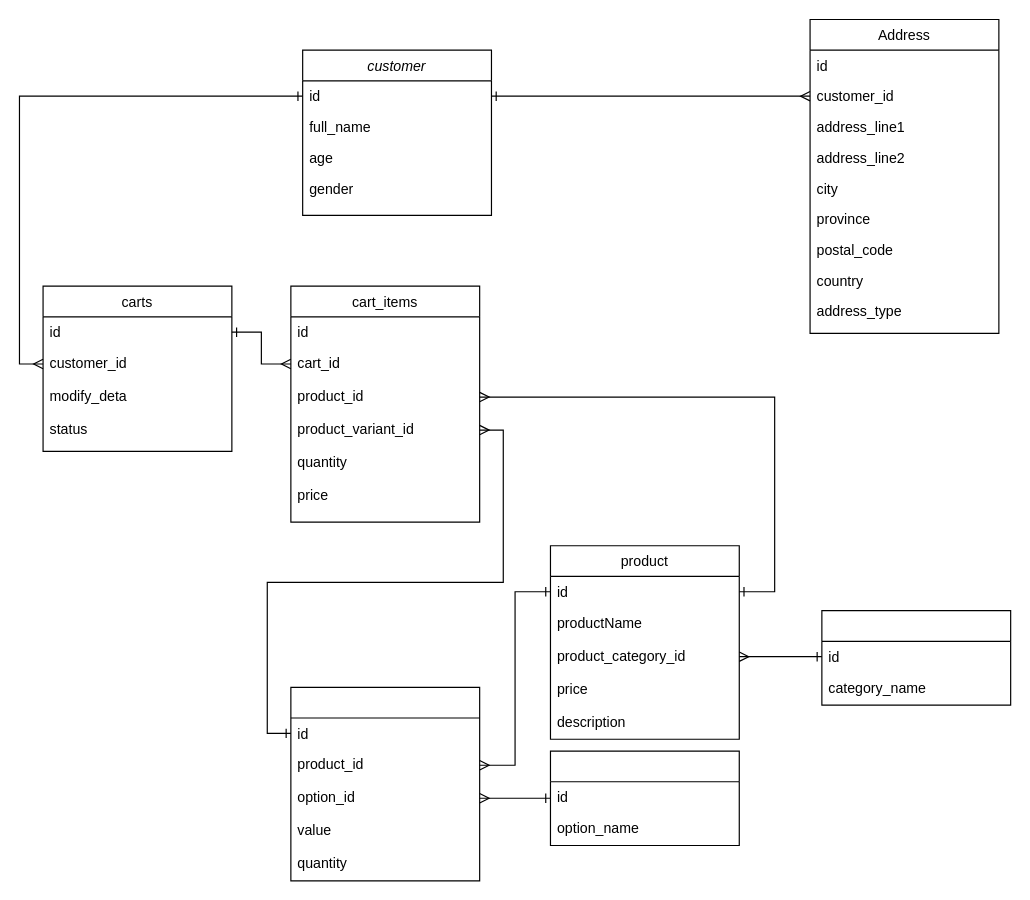
The diagram is 1030 pixels wide and 900 high, and some of its shapes have lost their labels. The shapes that lost their labels are listed below. From the top down, each one's box as (x1, y1, x2, y2) in pixels, then its label:
(821, 609, 1011, 705): product_categories
(290, 686, 480, 881): product_variants
(549, 750, 739, 845): product_options
